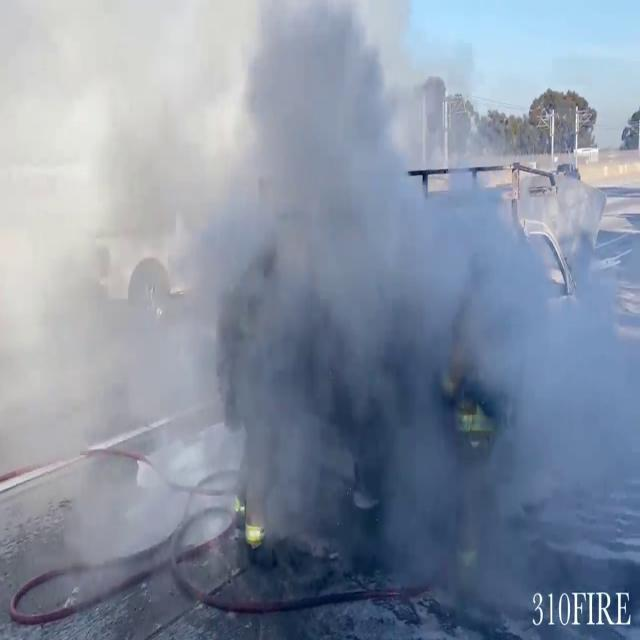Smoke: (0, 0, 628, 619)
